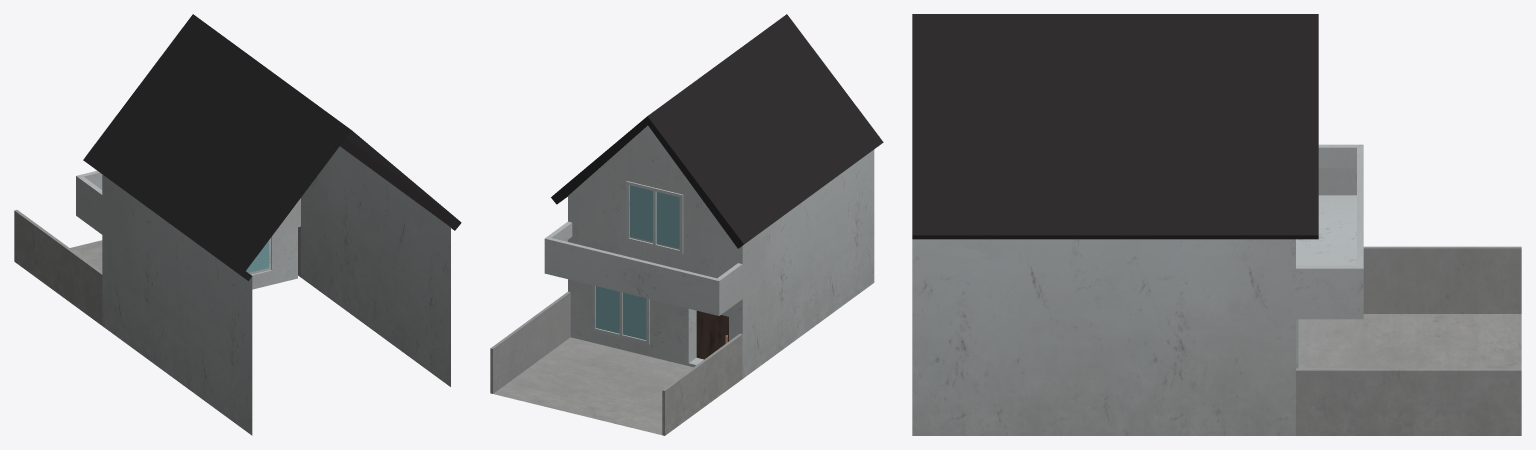
The model's file is house_exterior_white.gltf.
The picture shows the model from 3 angles, left to right: view 1: azimuth 30°, elevation 25°; view 2: azimuth 150°, elevation 25°; view 3: azimuth 270°, elevation 25°; orthographic projection. The views are drawn at different scales.
Visible parts, largest first — view 1: Cube.001; view 2: Cube.001; view 3: Cube.001.
Part boxes in pixels (<box>): Cube.001: <box>14,14,461,435</box>; Cube.001: <box>490,14,883,435</box>; Cube.001: <box>912,14,1521,435</box>.
Bounding box in the file's own units: 14.39 × 17.6 × 27.
1 material, 1 textured.
